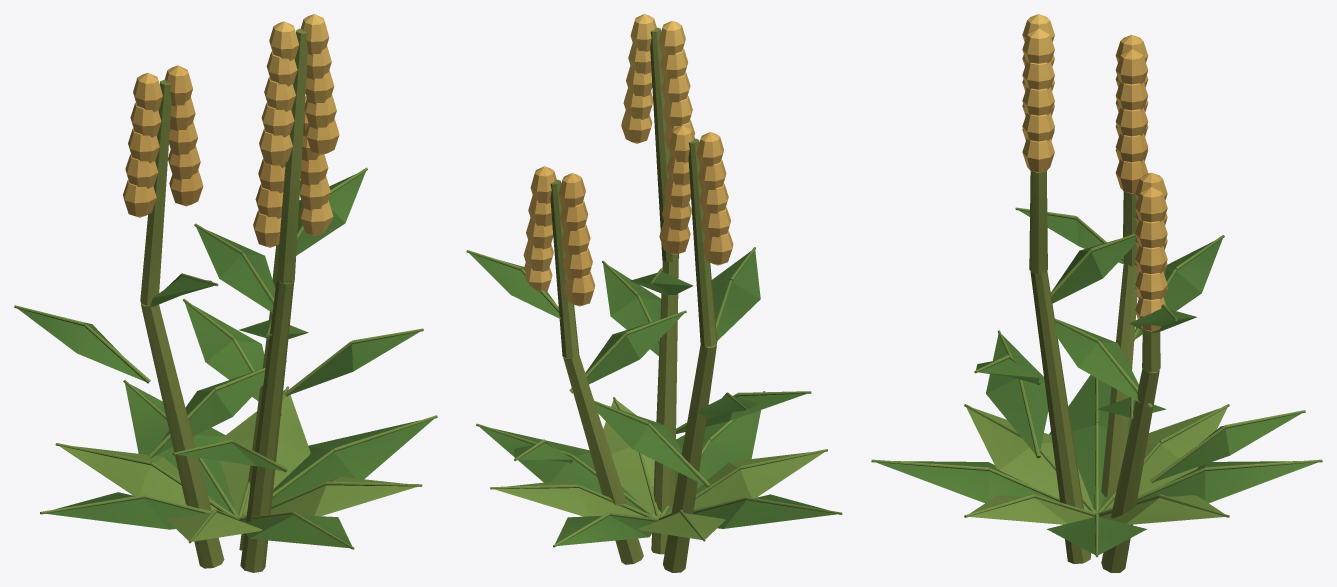
File: herb.glb
3 renders of one model, left to right at view 1: azimuth 30°, elevation 25°; view 2: azimuth 150°, elevation 25°; view 3: azimuth 270°, elevation 25°, orthographic. The views are drawn at different scales.
Visible parts, largest first — view 1: Herb_Mesh; view 2: Herb_Mesh; view 3: Herb_Mesh.
Part boxes in pixels (left/top/right/bottom): Herb_Mesh: left=14, top=14, right=437, bottom=572; Herb_Mesh: left=466, top=14, right=842, bottom=572; Herb_Mesh: left=871, top=14, right=1322, bottom=572.
Size of the model in its own units: 0.5803 by 0.7842 by 0.5803.
Materials: 1 (1 with a texture image).
